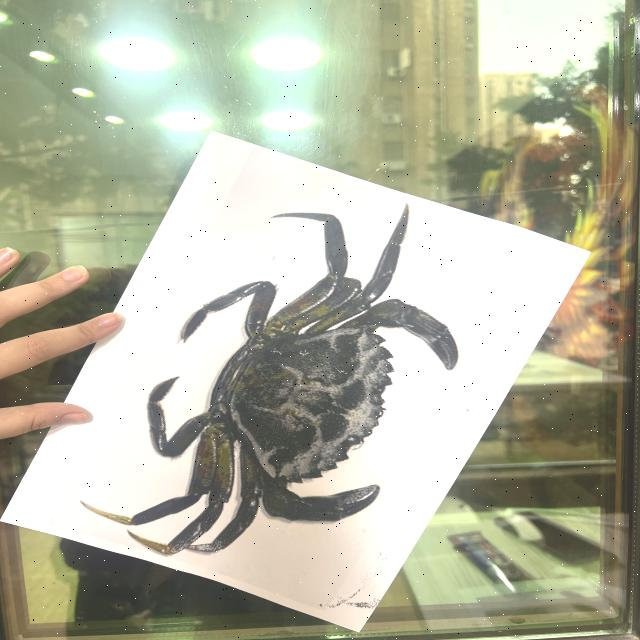European_Green_Crab: (66, 161, 527, 606)
